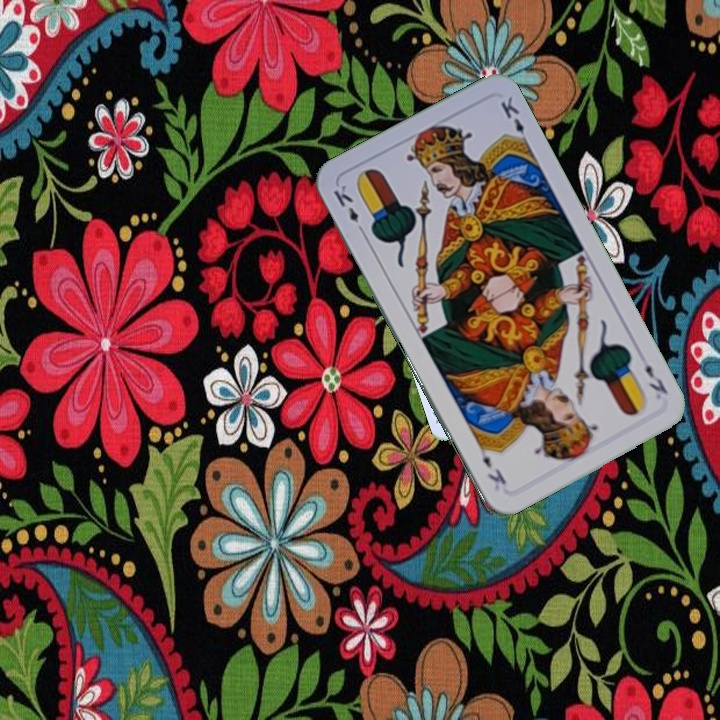EK: (329, 180, 368, 237), (637, 349, 671, 397)
